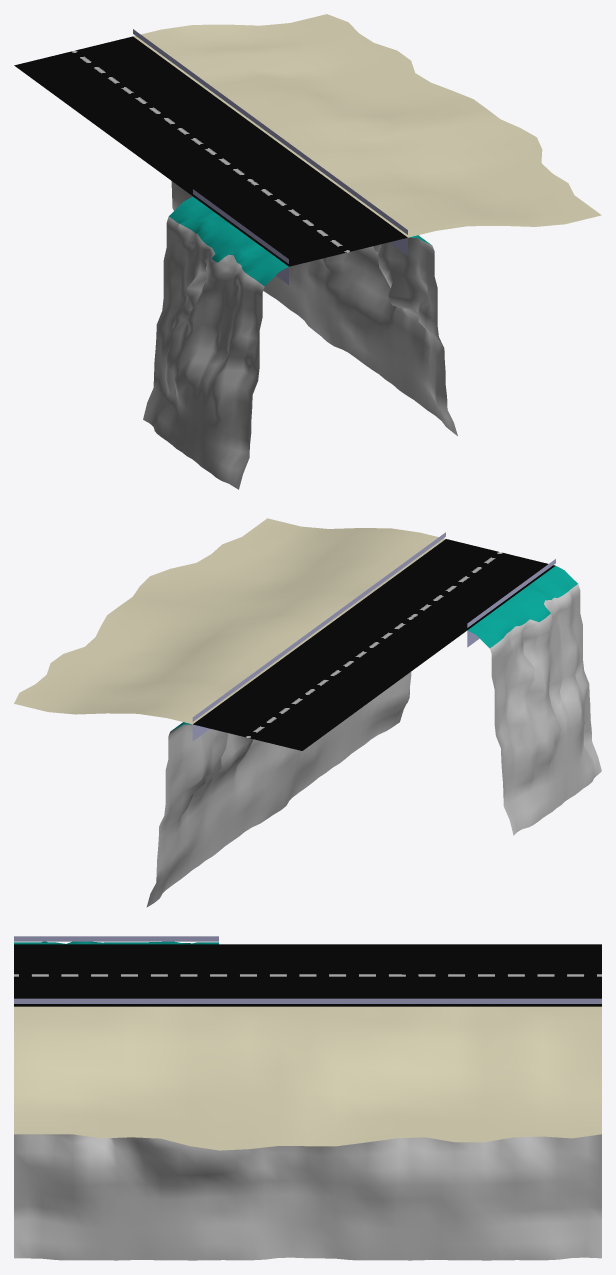
The picture shows the model from 3 angles, top to bottom: view 1: azimuth 30°, elevation 25°; view 2: azimuth 150°, elevation 25°; view 3: azimuth 270°, elevation 25°; orthographic projection. The views are drawn at different scales.
Visible parts, largest first — view 1: sand_2, Mesh, cliff_1, cliff_2, guardRail_2; view 2: sand_2, Mesh, cliff_1, cliff_2, guardRail_2; view 3: sand_2, cliff_2, Mesh, guardRail_2, guardRail_1, cliff_1.
Boxes of the visible parts, box(x1,y1,x2,y2) form: sand_2: box(133, 14, 601, 237); Mesh: box(14, 36, 407, 266); cliff_1: box(143, 197, 288, 489); cliff_2: box(171, 181, 457, 435); guardRail_2: box(133, 29, 407, 234); sand_2: box(14, 518, 445, 724); Mesh: box(193, 539, 555, 750); cliff_1: box(467, 566, 601, 835); cliff_2: box(146, 672, 411, 907); guardRail_2: box(192, 532, 445, 721); sand_2: box(14, 1006, 601, 1150); cliff_2: box(14, 1134, 601, 1260); Mesh: box(14, 944, 601, 1006); guardRail_2: box(14, 998, 601, 1003); guardRail_1: box(14, 936, 218, 941); cliff_1: box(14, 941, 218, 944).
Bounding box in the file's own units: 33.51 × 17.56 × 40.
